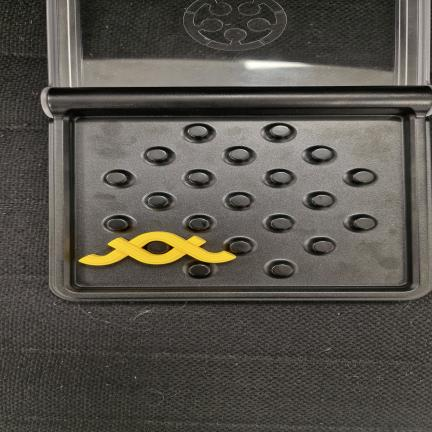A_Yellow: (79, 232, 236, 265)
board: (42, 86, 432, 301)
hinge: (39, 86, 432, 114)
pin: (103, 169, 136, 188), (269, 171, 291, 184), (147, 241, 169, 254), (229, 148, 250, 161), (189, 264, 210, 277), (187, 125, 209, 137), (106, 218, 128, 230), (270, 218, 292, 230), (353, 217, 375, 229), (312, 241, 334, 253), (271, 264, 293, 276), (311, 148, 332, 160), (353, 171, 374, 183), (188, 172, 209, 184), (147, 195, 168, 207), (229, 195, 250, 207), (230, 241, 251, 253), (312, 194, 333, 206), (270, 125, 290, 137), (147, 149, 167, 161), (189, 218, 209, 230)
